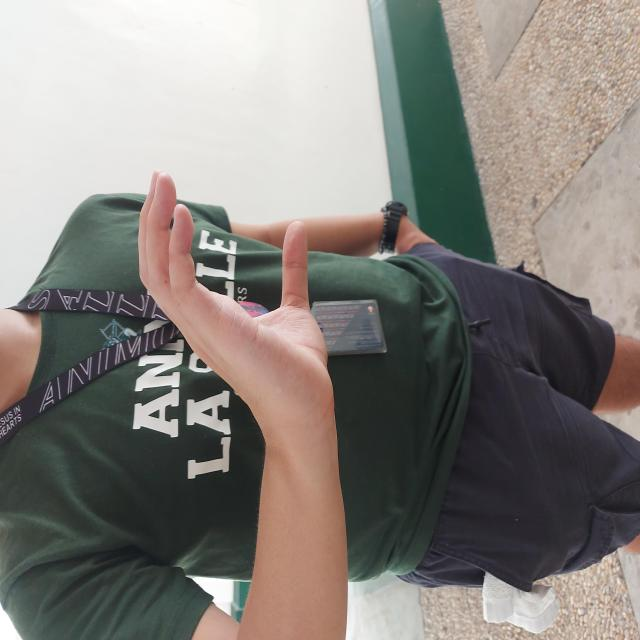C: (203, 136, 474, 337)
